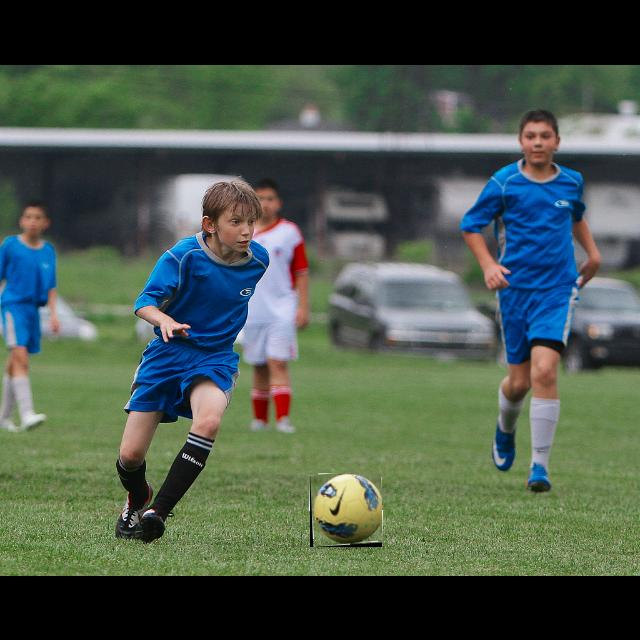Football: (310, 473, 382, 547)
